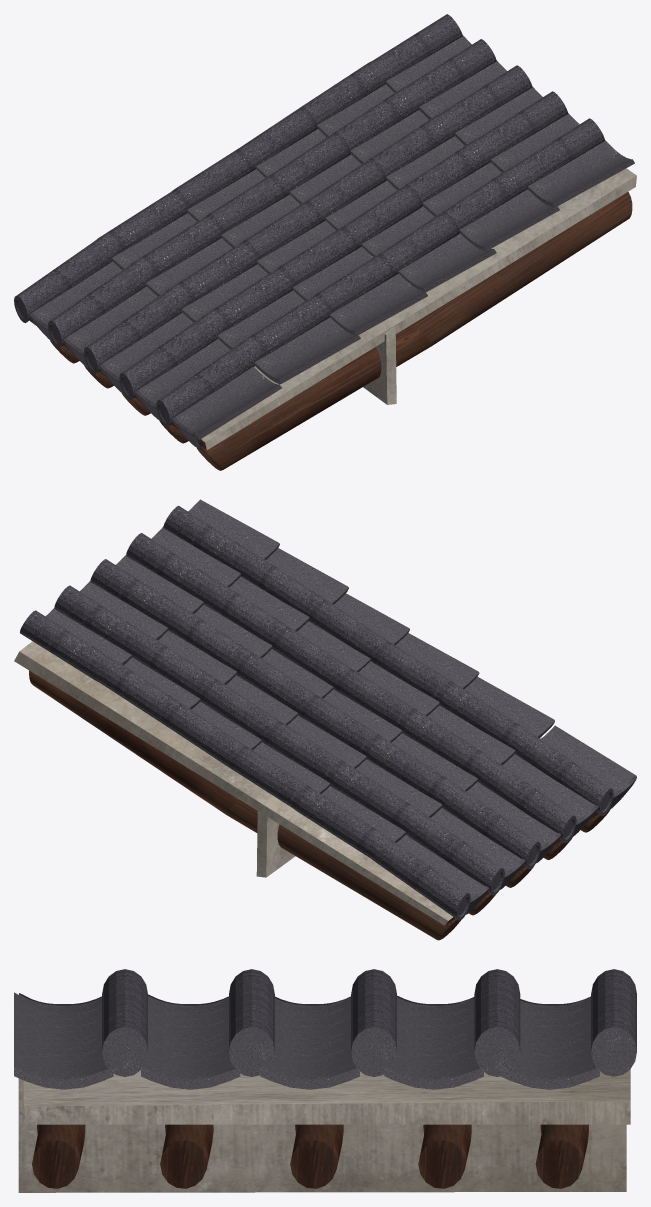
The model's file is SM_Roof_54.fbx.
The picture shows the model from 3 angles, top to bottom: view 1: azimuth 30°, elevation 25°; view 2: azimuth 150°, elevation 25°; view 3: azimuth 270°, elevation 25°; orthographic projection. The views are drawn at different scales.
Visible parts, largest first — view 1: SM_Roof_54; view 2: SM_Roof_54; view 3: SM_Roof_54.
Boxes of the visible parts, box(x1,y1,x2,y2) form: SM_Roof_54: box(14, 14, 636, 470); SM_Roof_54: box(14, 499, 636, 940); SM_Roof_54: box(14, 969, 636, 1192).
Bounding box in the file's own units: 338 × 238 × 175.
3 materials, 3 textured.
